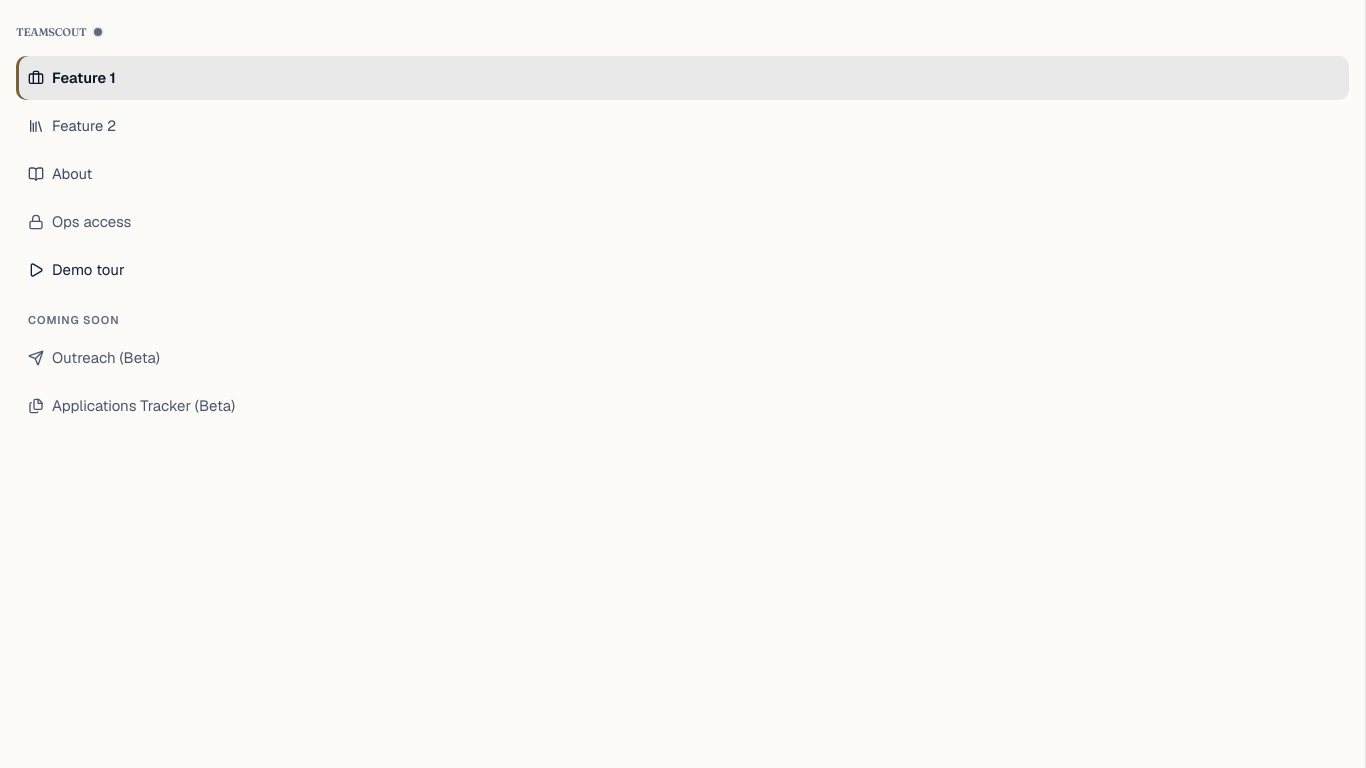
Test: Beta roadmap modals › opens Applications Tracker modal
The image size is (1366, 768).
Click the button with test id "beta-nav-tracker": (144, 406) [16,384,1349,428]
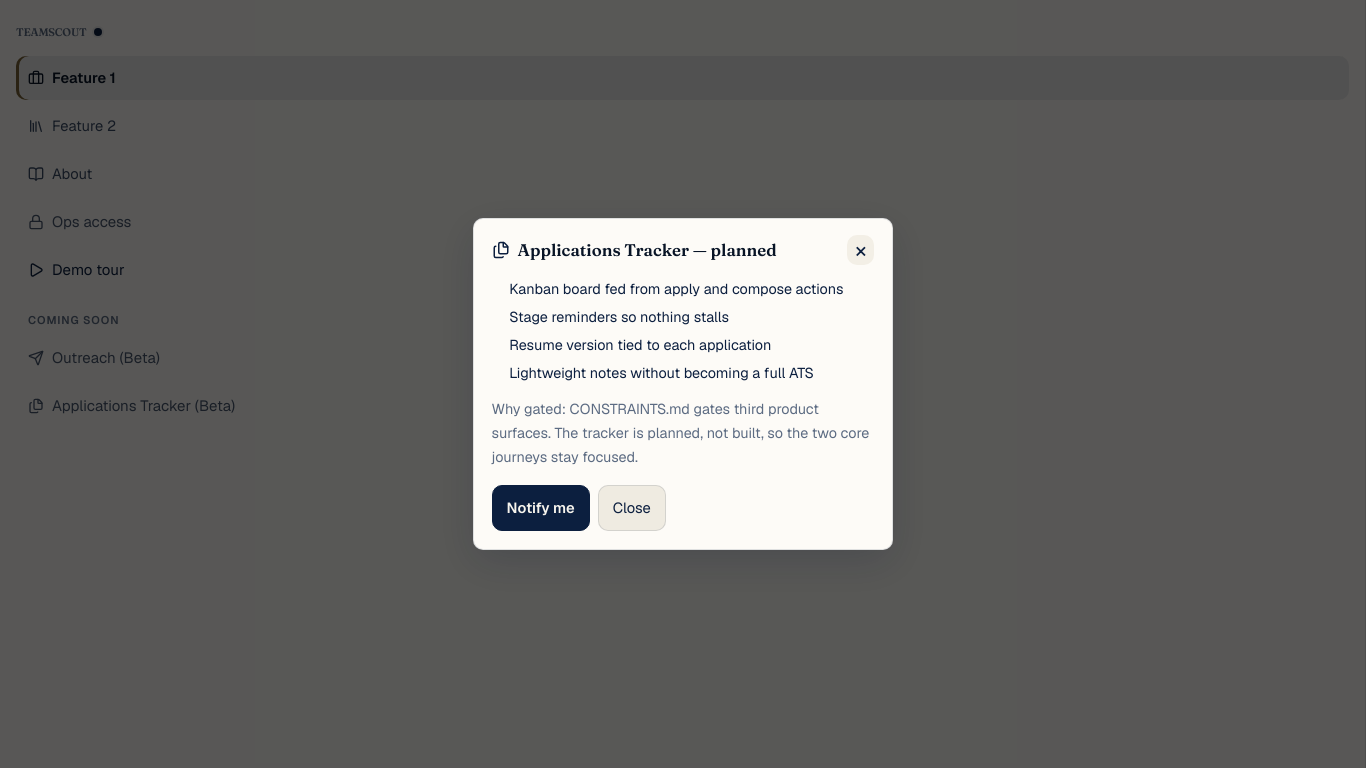
Expected: the element with test id "beta-modal-tracker" is shown
Expected: the heading "Applications Tracker — planned" is shown, [518,240,777,260]
